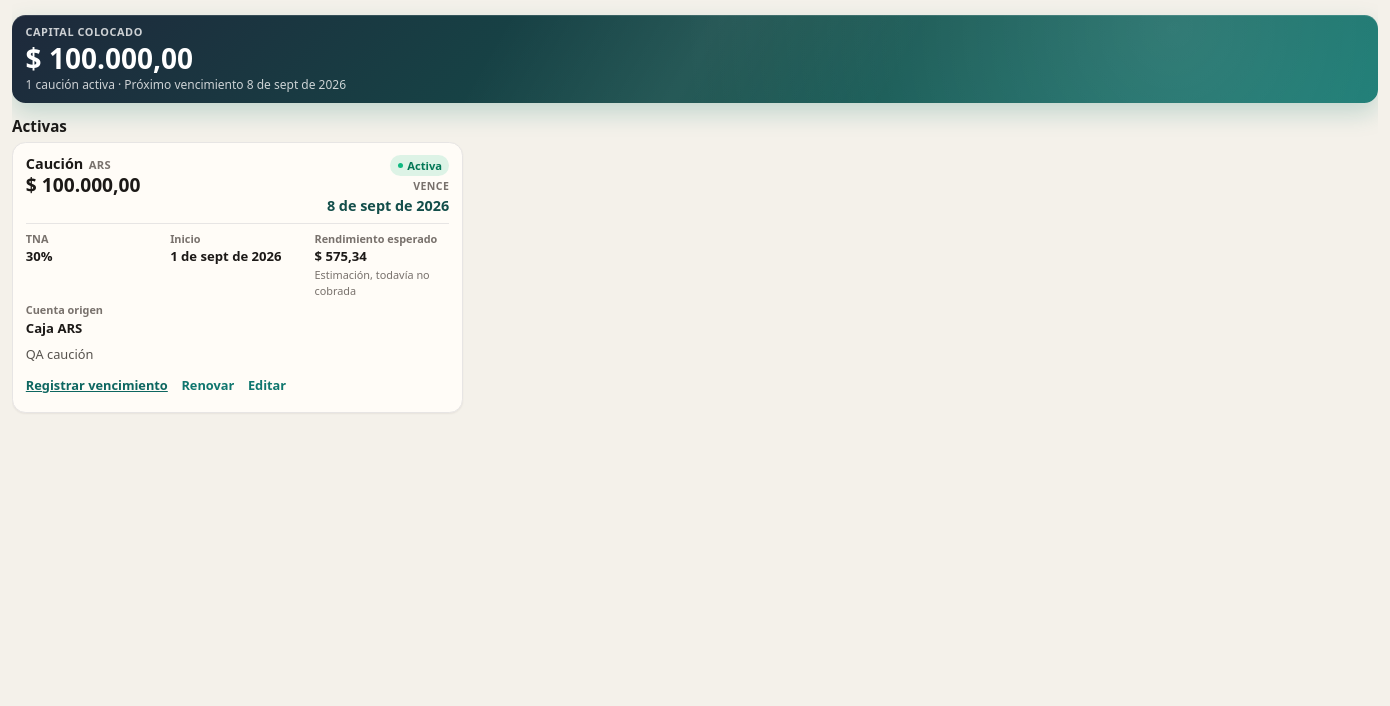
Test: InvestmentsPage › shows a maturity error in Spanish
Click the button "Registrar vencimiento" at (97, 386), box [26,370,168,401]
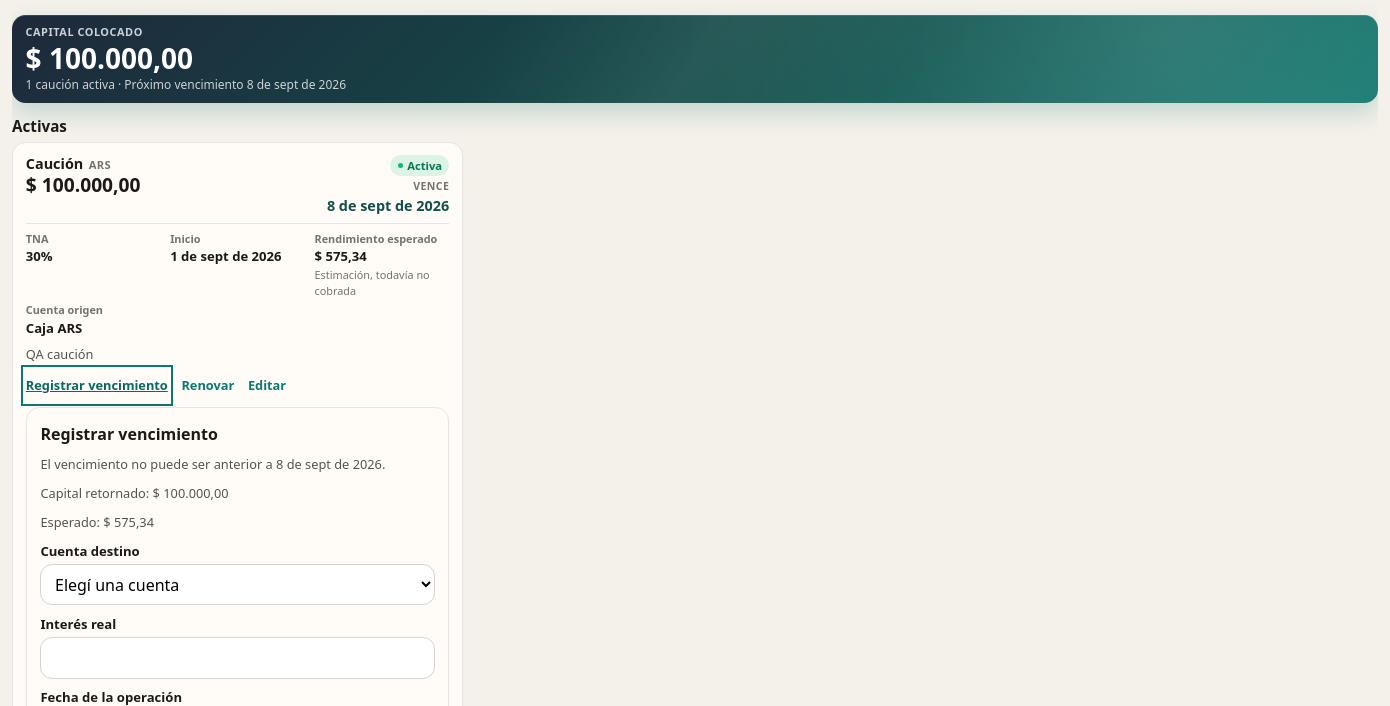
Select "Caja ARS" in the dropdown labelled "Cuenta destino" at (238, 585), box [40,564,435,605]
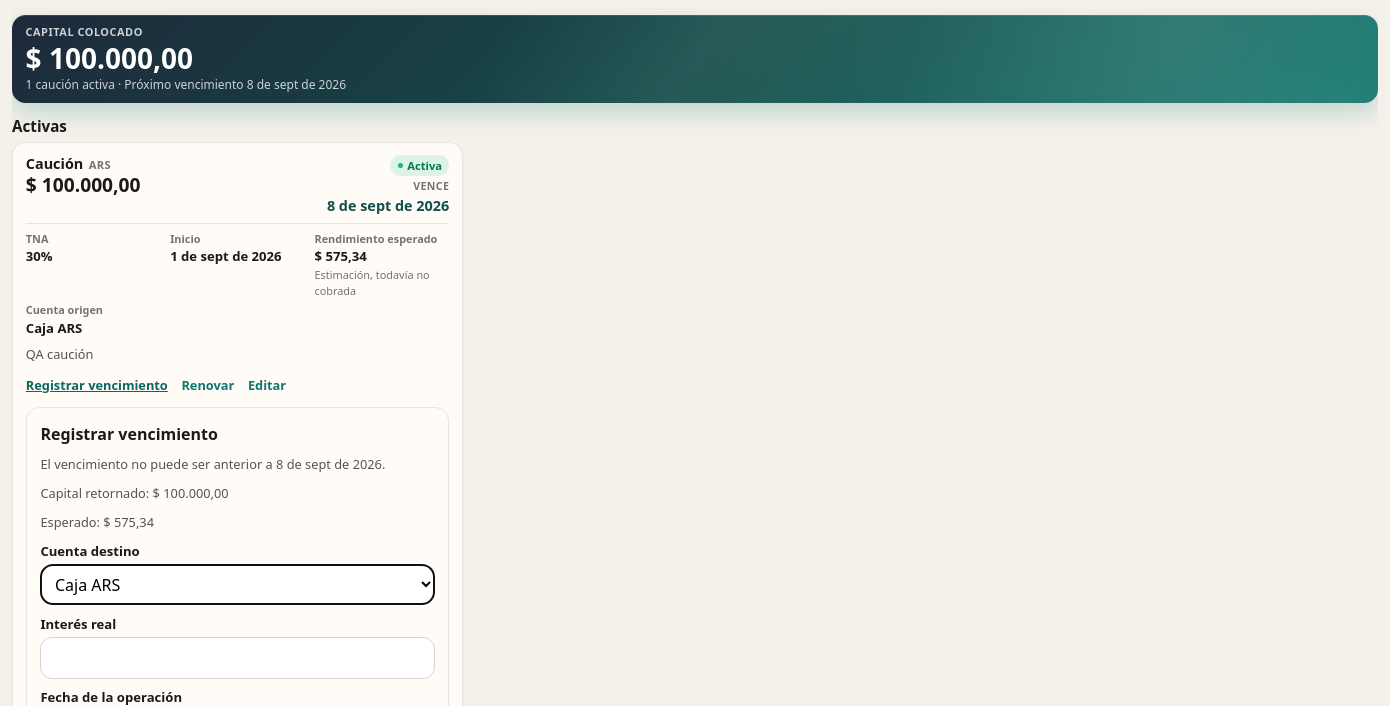
Type "560" into the field labelled "Interés real" at (238, 658), box [40,637,435,679]
(page scrolled)
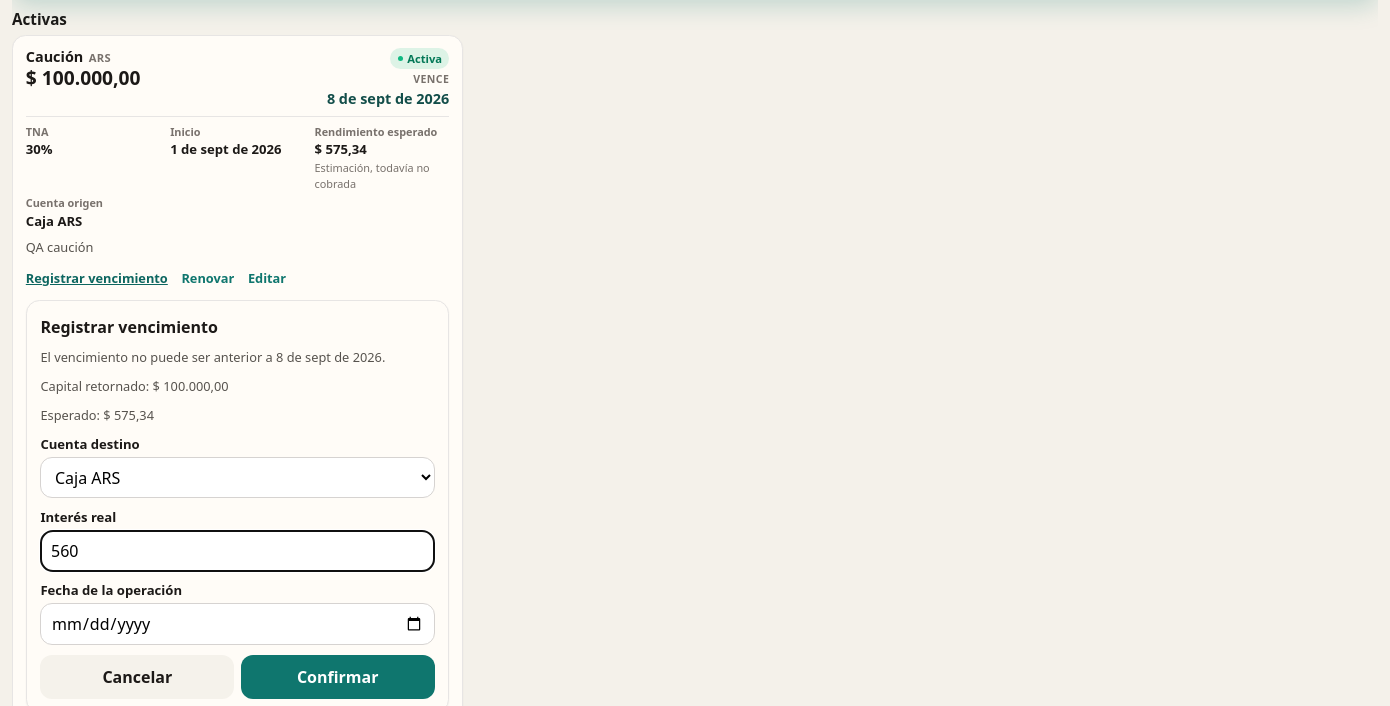
Type "2026-09-08" into the date field labelled "Fecha de la operación" at (238, 624), box [40,603,435,645]
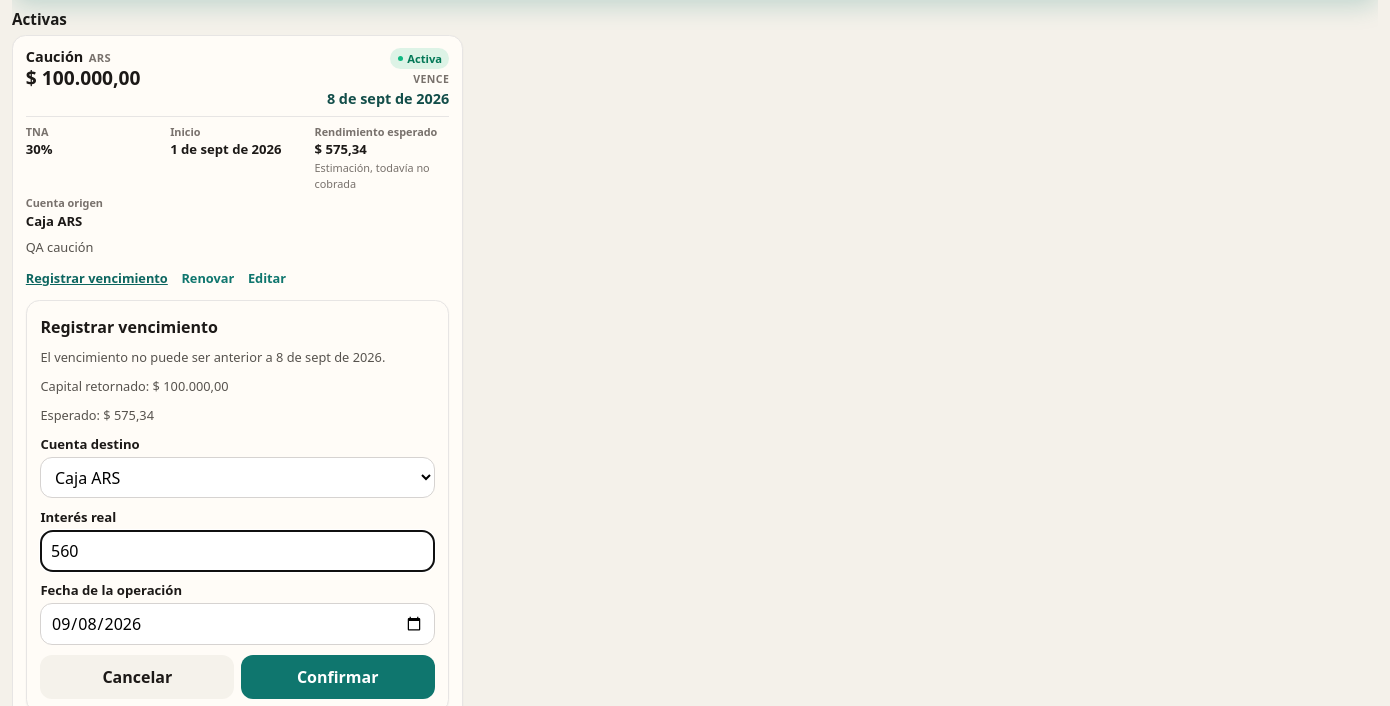
Click the button "Confirmar" at (338, 676), box [241,654,435,698]
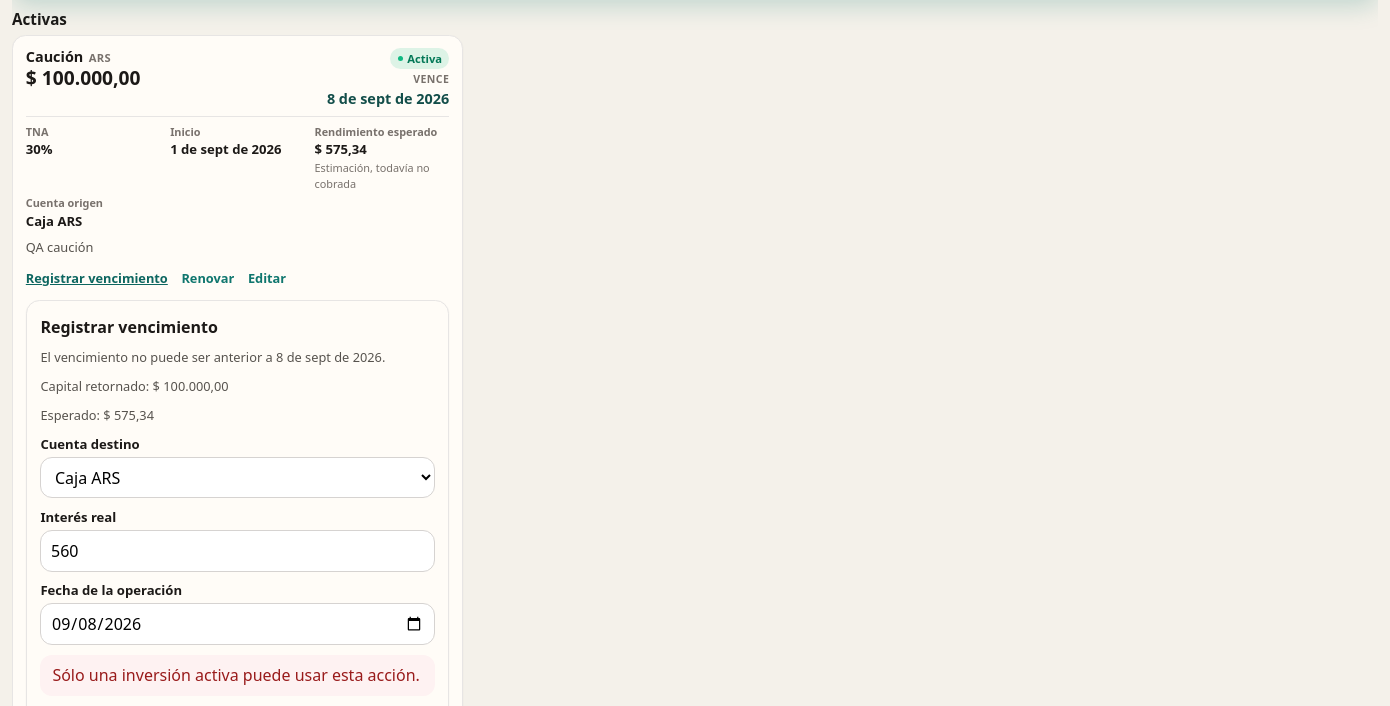
Result: the text "Sólo una inversión activa puede usar esta acción." is shown at [40,654,435,696]
